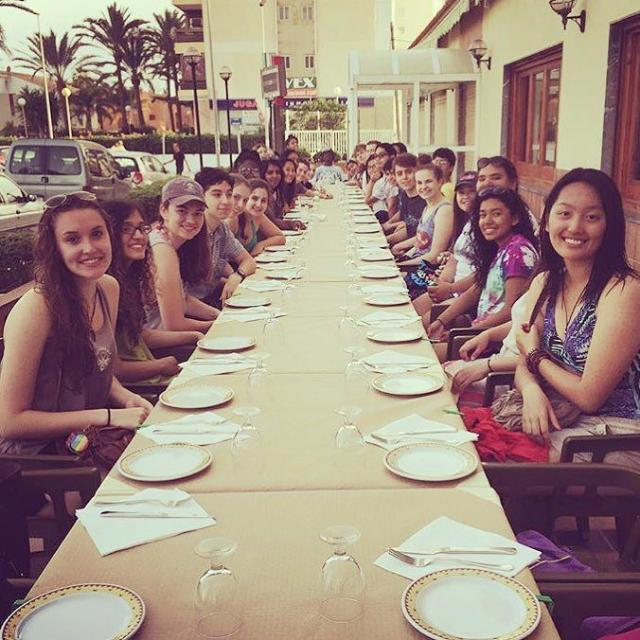body: (481, 165, 640, 497), (0, 190, 156, 476), (410, 154, 541, 337), (100, 196, 208, 396), (425, 190, 542, 363), (141, 177, 223, 331), (182, 165, 258, 312), (402, 169, 480, 301), (234, 133, 407, 192), (391, 153, 456, 266), (392, 161, 455, 275), (228, 178, 287, 258), (381, 152, 428, 245), (256, 162, 308, 232), (308, 145, 346, 200), (220, 171, 252, 235), (430, 146, 458, 202), (161, 140, 193, 177), (406, 144, 436, 165)
